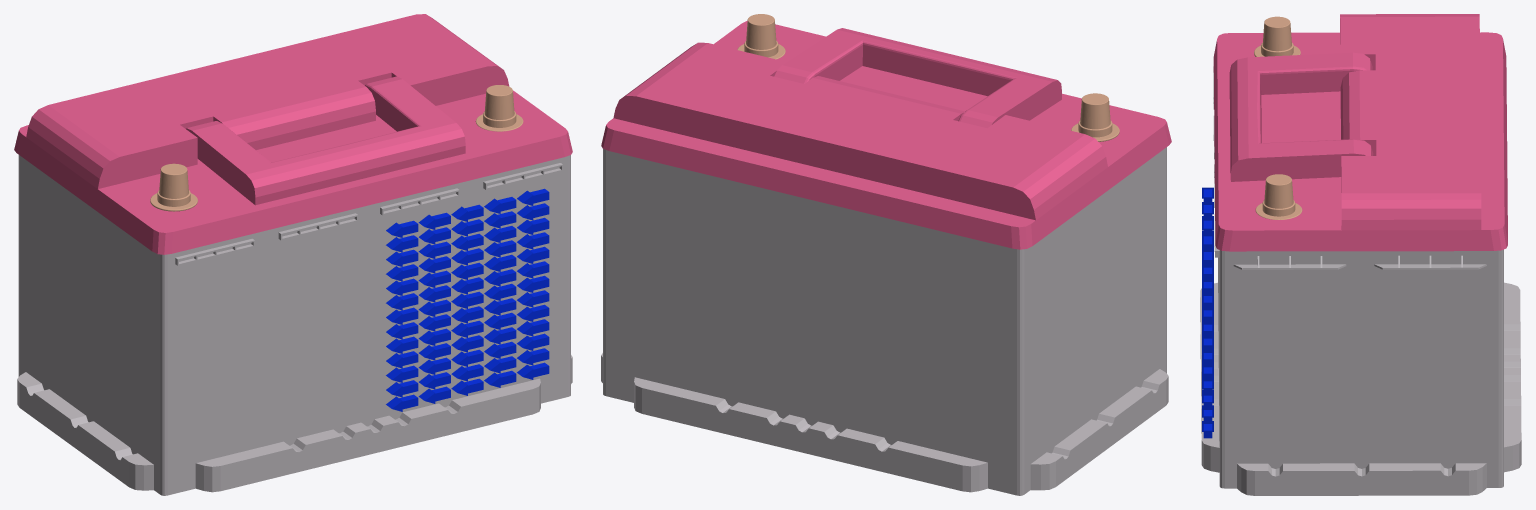
The model's file is highSpeedAgitateAni1.glb.
3 views of the same model, side by side, from view 1: azimuth 30°, elevation 25°; view 2: azimuth 150°, elevation 25°; view 3: azimuth 270°, elevation 25° (orthographic). The views are drawn at different scales.
Parts seen in each view (by area): view 1: batteryBody, batteryTop, electron, negativeTerminal, positiveTerminal; view 2: batteryBody, batteryTop, negativeTerminal, positiveTerminal; view 3: batteryBody, batteryTop, electron, positiveTerminal, negativeTerminal.
Part boxes in pixels (bbox=[...]): batteryBody: bbox=[17, 155, 572, 495]; batteryTop: bbox=[14, 14, 572, 254]; electron: bbox=[386, 188, 549, 411]; negativeTerminal: bbox=[150, 163, 197, 211]; positiveTerminal: bbox=[475, 85, 523, 131]; batteryBody: bbox=[601, 147, 1168, 495]; batteryTop: bbox=[601, 20, 1171, 249]; negativeTerminal: bbox=[1071, 93, 1119, 141]; positiveTerminal: bbox=[737, 14, 785, 59]; batteryBody: bbox=[1200, 66, 1521, 495]; batteryTop: bbox=[1213, 14, 1507, 251]; electron: bbox=[1202, 187, 1213, 438]; positiveTerminal: bbox=[1255, 174, 1302, 219]; negativeTerminal: bbox=[1254, 16, 1300, 56].
Size of the model in its own units: 21.54 by 13.72 by 13.79.
